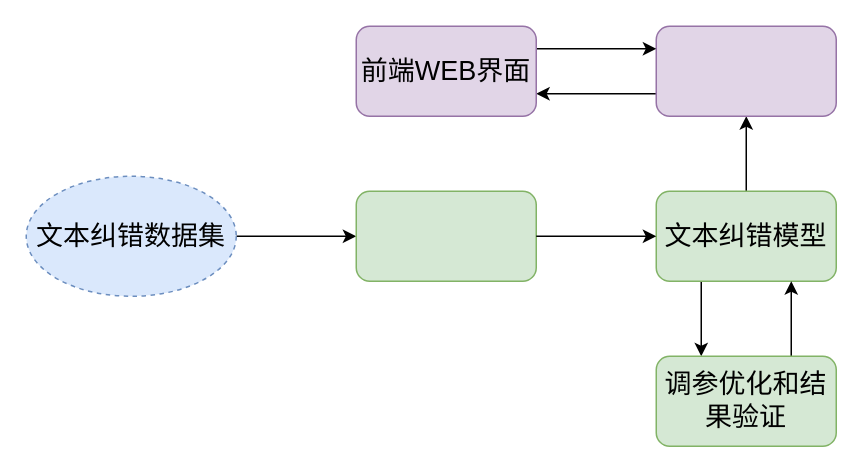
The diagram is 863 pixels wide and 473 high, and some of its shapes have lost their labels. The box of each missing label's shape, as (x1, y1, x2, y2) in pixels:
后端API服务: (655, 25, 836, 116)
数据处理: (355, 190, 536, 281)
